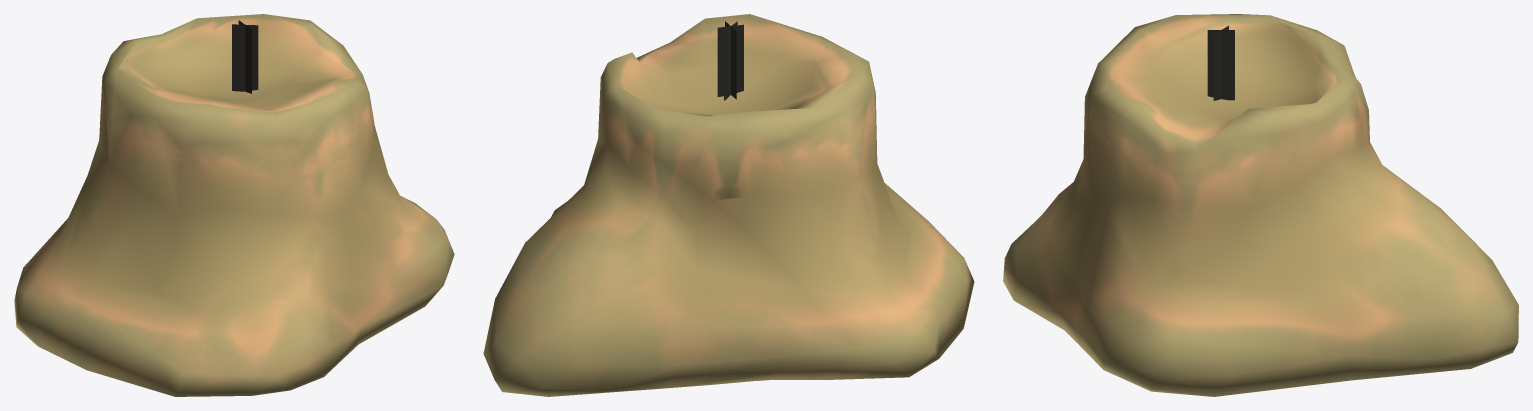
The model's file is SM_Candle_1.fbx.
3 renders of one model, left to right at view 1: azimuth 30°, elevation 25°; view 2: azimuth 150°, elevation 25°; view 3: azimuth 270°, elevation 25°, orthographic. The views are drawn at different scales.
Parts seen in each view (by area): view 1: SM_Candle_1_LOD0; view 2: SM_Candle_1_LOD0; view 3: SM_Candle_1_LOD0.
Part boxes in pixels (x1,y1,x2,y2): SM_Candle_1_LOD0: [14, 14, 454, 396]; SM_Candle_1_LOD0: [483, 14, 974, 396]; SM_Candle_1_LOD0: [1003, 14, 1518, 396].
Size of the model in its own units: 10.26 by 11.38 by 6.85.
